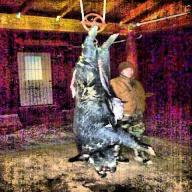boar: (56, 19, 145, 167)
